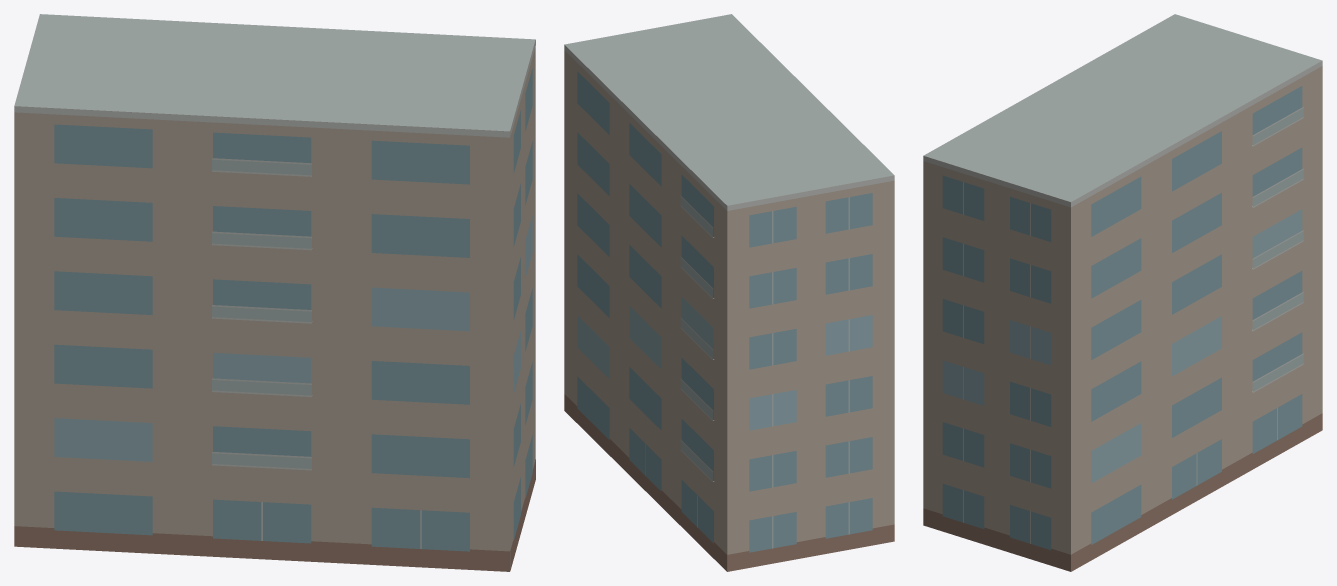
The model's file is survey-upis-32636409.glb.
3 renders of one model, left to right at view 1: azimuth 30°, elevation 25°; view 2: azimuth 150°, elevation 25°; view 3: azimuth 270°, elevation 25°, orthographic. The views are drawn at different scales.
Parts seen in each view (by area): view 1: survey-upis-32636409.tmp; view 2: survey-upis-32636409.tmp; view 3: survey-upis-32636409.tmp.
Boxes of the visible parts, x1=… form: survey-upis-32636409.tmp: x1=14, y1=14, x2=535, y2=571; survey-upis-32636409.tmp: x1=564, y1=14, x2=894, y2=571; survey-upis-32636409.tmp: x1=923, y1=14, x2=1322, y2=571.
Bounding box in the file's own units: 18.79 × 17.2 × 16.84.
